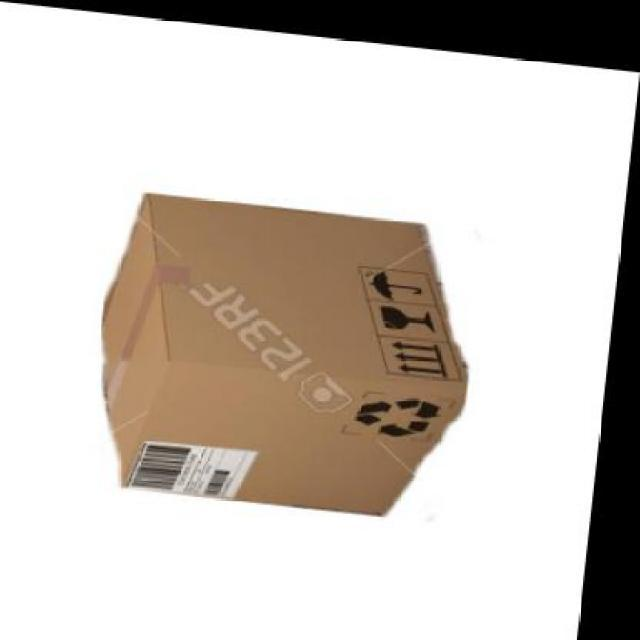box: (94, 187, 482, 514)
